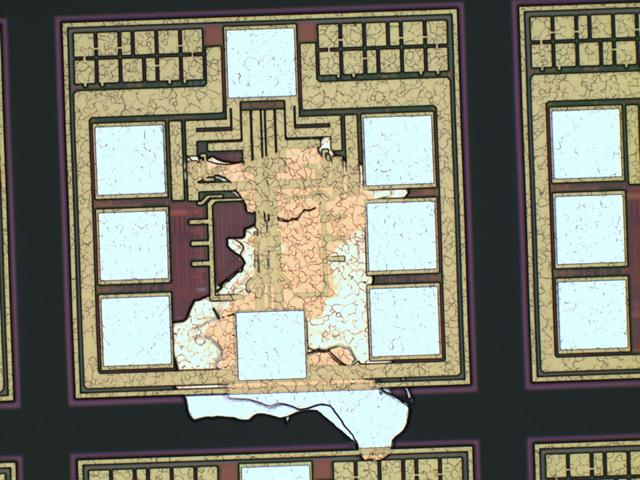BLOCK ETCH: (165, 137, 414, 468)
